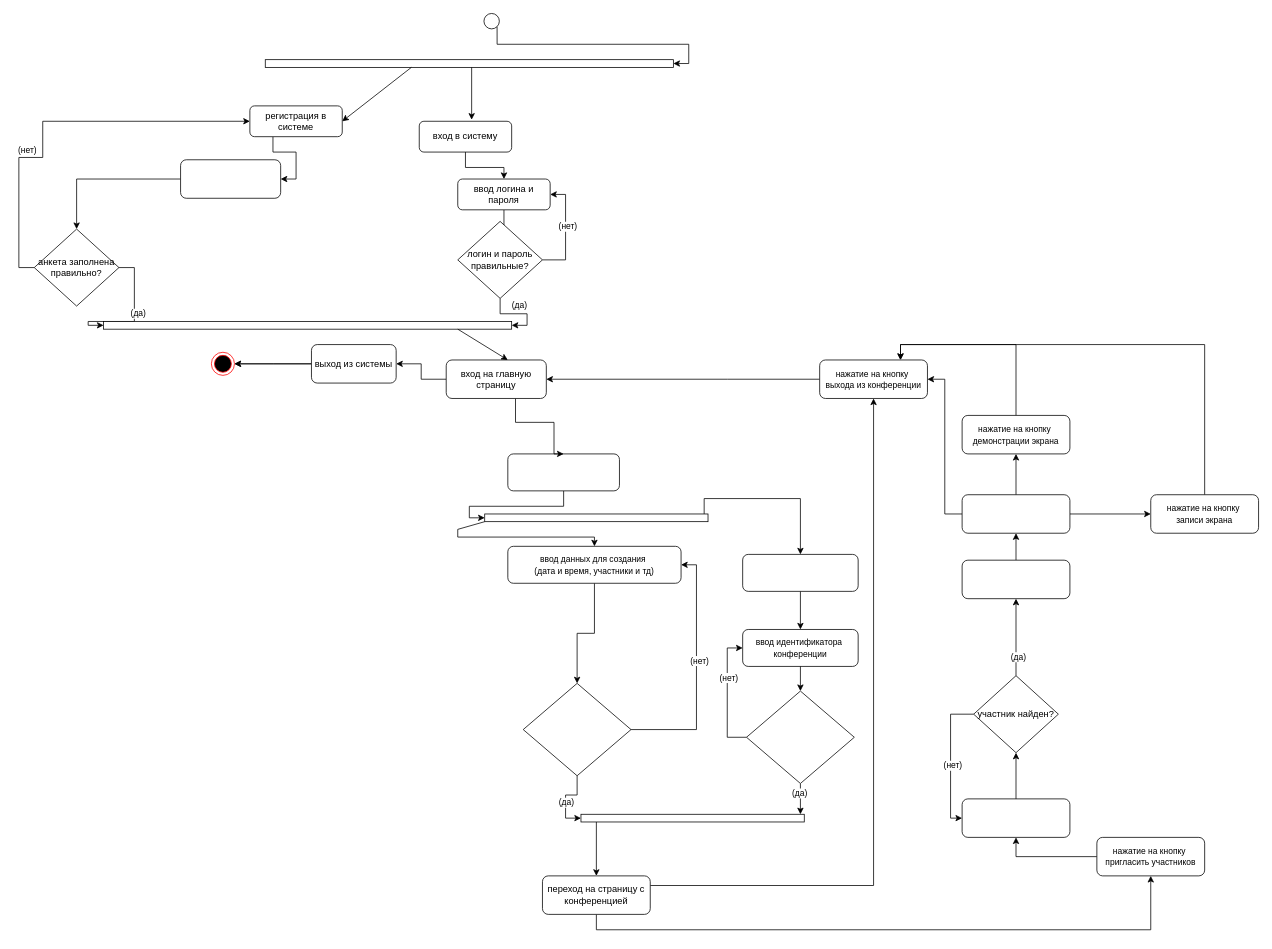
This 1272x949 diagram has some shape labels left out. Each missing label, with the centre of its shape:
"ввести данные участников" belongs at pixel 1015 817.
"все обязательны поля заполнены?" belongs at pixel 576 729.
"добавление участника в конференцию" belongs at pixel 1015 579.
"заполнение анкеты регистрации" belongs at pixel 230 178.
"нажатие на кнопку включить/выключить звук/видео" belongs at pixel 1015 513.
"нажмите на вход в конференцию" belongs at pixel 800 572.
"переход на страницу для создания конференции" belongs at pixel 563 472.
"существует конференция с таким идентификатором?" belongs at pixel 800 736.
